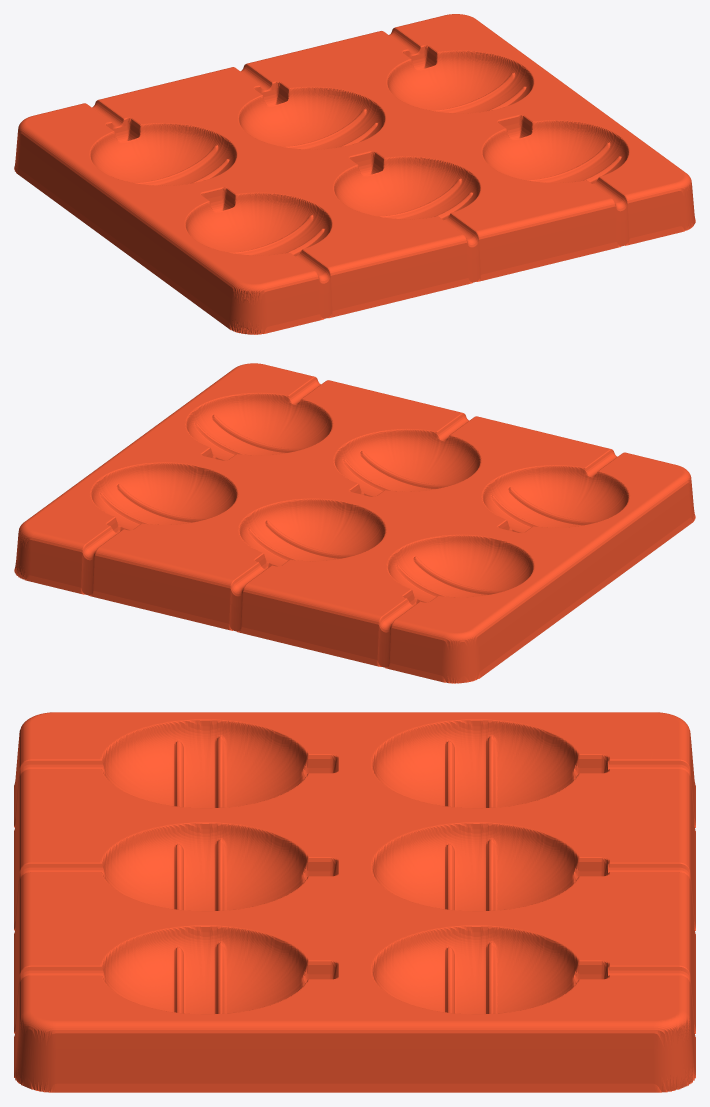
File: mold.glb
3 views of the same model, one above another, from view 1: azimuth 30°, elevation 25°; view 2: azimuth 150°, elevation 25°; view 3: azimuth 270°, elevation 25° (orthographic). The views are drawn at different scales.
Visible parts, largest first — view 1: geometry_0; view 2: geometry_0; view 3: geometry_0.
Part boxes in pixels (x1,y1,x2,y2): geometry_0: (14,14,695,334); geometry_0: (14,363,695,683); geometry_0: (14,712,695,1092).
Size of the model in its own units: 0.1649 by 0.0155 by 0.1477.
